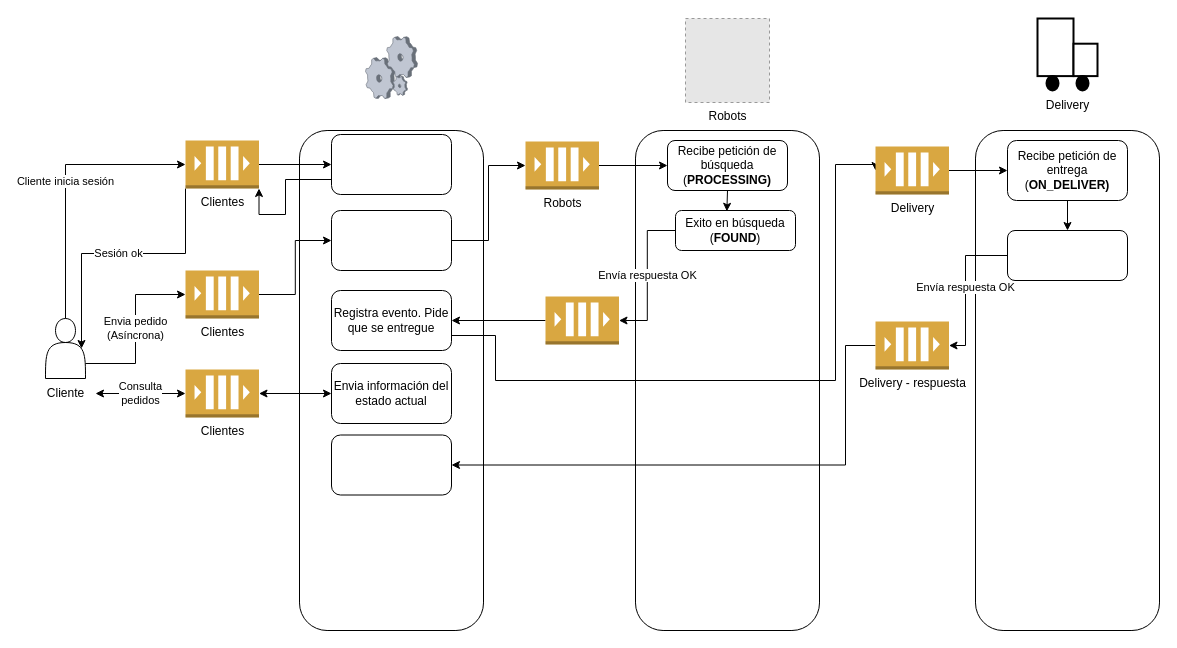
Image size: 1177x648. Some labels were removed from this diagram. Grey dashed boxes stand in for pictures. The shapes that lost their labels are listed below. From the top down, each one's box as (x1, y1, x2, y2) in pixels, then its label:
(365, 36, 417, 98): Controlador
(330, 134, 452, 194): Credenciales correctas. Envia info de usuario
(330, 210, 452, 270): Registra pedido ( CREATED) . Pide que se busque en almacen
(1006, 230, 1128, 280): Éxito en entrega ( DELIVERED)
(544, 296, 619, 344): Robots - respuesta
(330, 434, 452, 495): Registra evento
